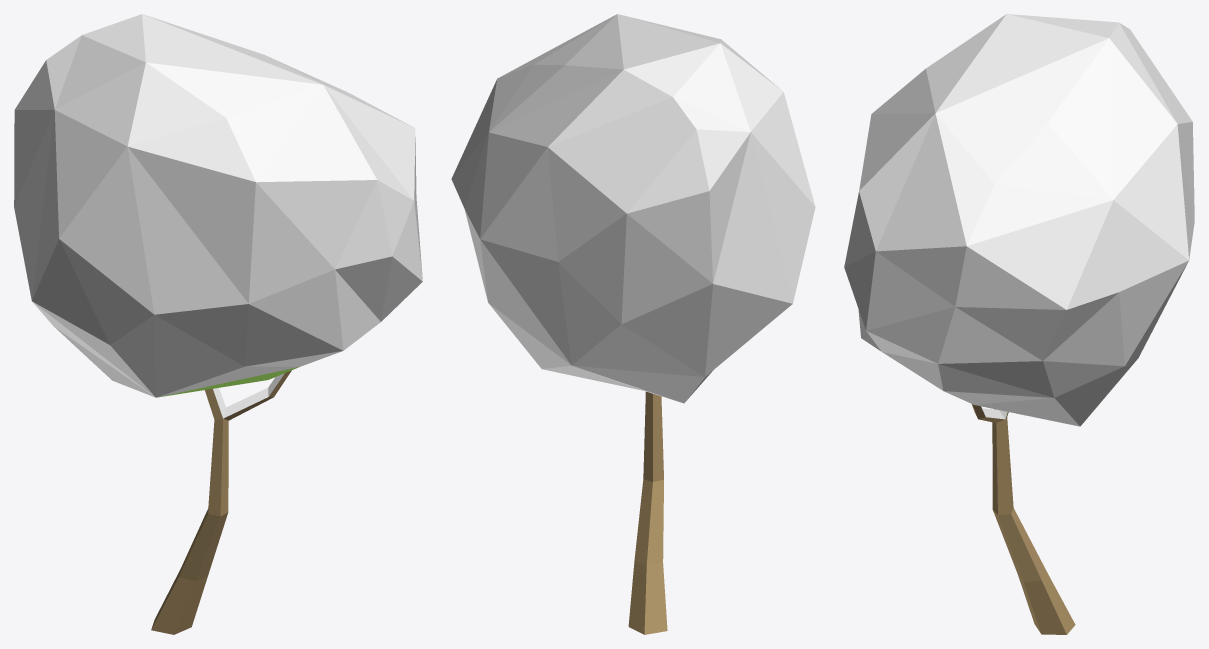
File: Apple_Tree_m_Snow_BT_04.fbx
3 views of the same model, side by side, from view 1: azimuth 30°, elevation 25°; view 2: azimuth 150°, elevation 25°; view 3: azimuth 270°, elevation 25° (orthographic). The views are drawn at different scales.
Parts seen in each view (by area): view 1: Apple_Tree_m_Snow_BT_04; view 2: Apple_Tree_m_Snow_BT_04; view 3: Apple_Tree_m_Snow_BT_04.
Part boxes in pixels (<box>): Apple_Tree_m_Snow_BT_04: <box>14,14,422,634</box>; Apple_Tree_m_Snow_BT_04: <box>451,14,815,634</box>; Apple_Tree_m_Snow_BT_04: <box>844,14,1194,634</box>.
Size of the model in its own units: 524 by 864 by 466.
